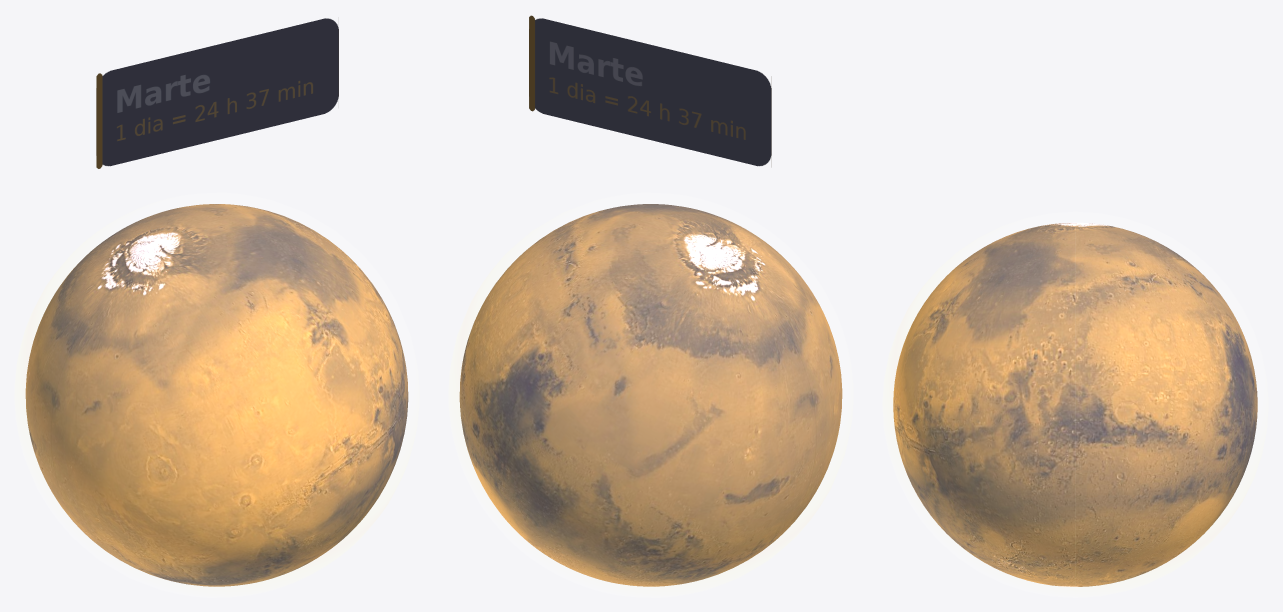
File: marte.glb
3 views of the same model, side by side, from view 1: azimuth 30°, elevation 25°; view 2: azimuth 150°, elevation 25°; view 3: azimuth 270°, elevation 25° (orthographic). The views are drawn at different scales.
Parts seen in each view (by area): view 1: Marte_brilho, Marte, cartao; view 2: Marte_brilho, Marte, cartao; view 3: Marte_brilho, Marte.
Part boxes in pixels (<box>): Marte_brilho: <box>15,193,418,597</box>; Marte: <box>25,204,408,586</box>; cartao: <box>96,18,338,168</box>; Marte_brilho: <box>449,193,852,597</box>; Marte: <box>459,204,842,586</box>; cartao: <box>529,15,771,166</box>; Marte_brilho: <box>883,212,1267,597</box>; Marte: <box>893,222,1257,586</box>.
Size of the model in its own units: 0.4235 by 0.6168 by 0.424.
3 materials, 2 textured.
